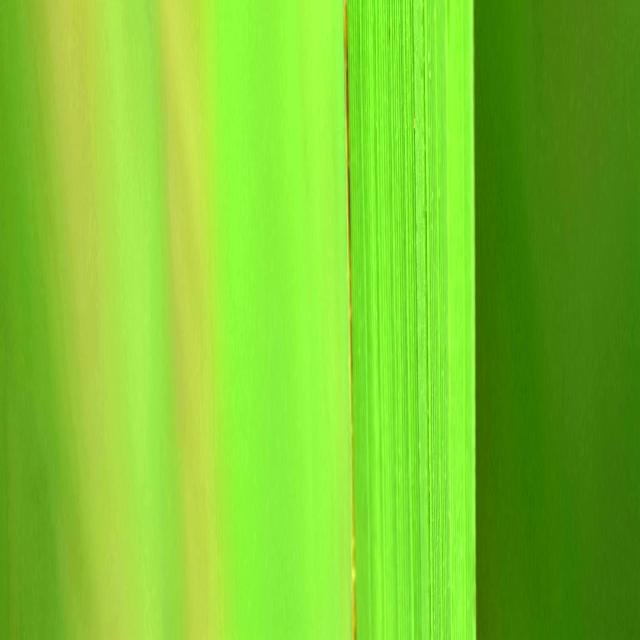BLS: (343, 0, 357, 636), (449, 0, 449, 45)
